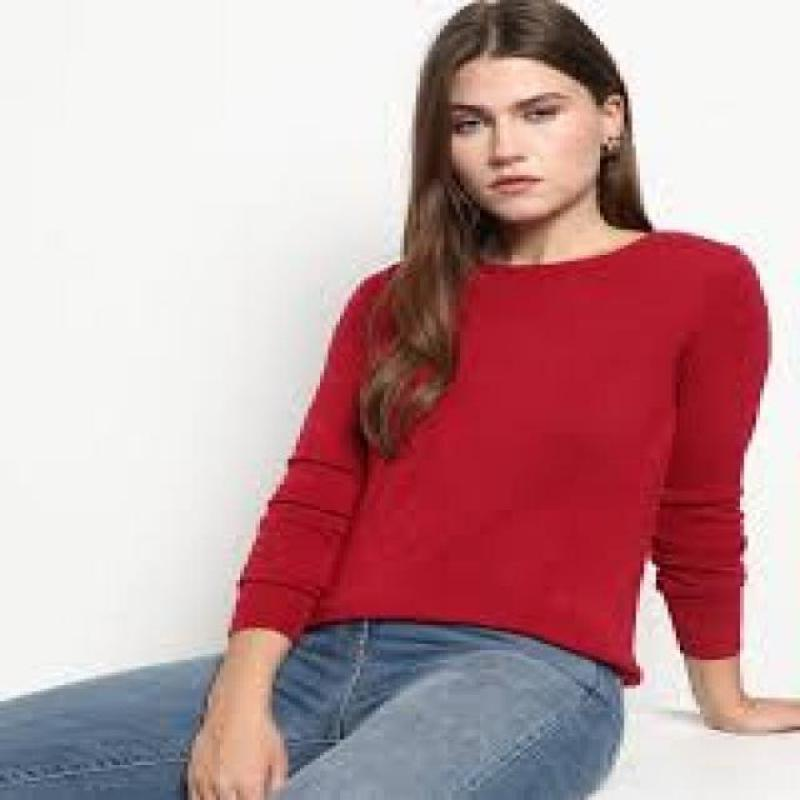sweater: (225, 227, 773, 687)
trousers: (0, 620, 630, 800)
